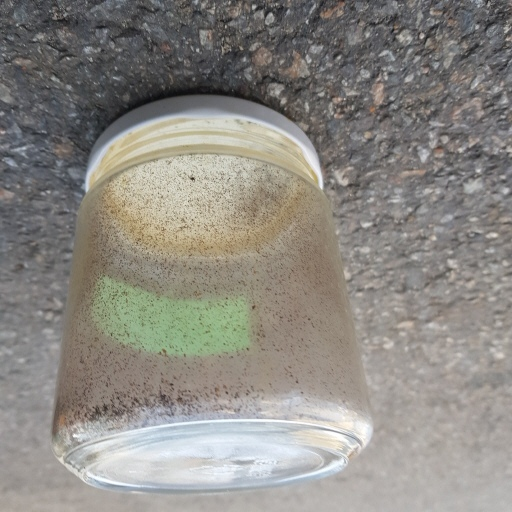Glass_5: (56, 96, 370, 482)
